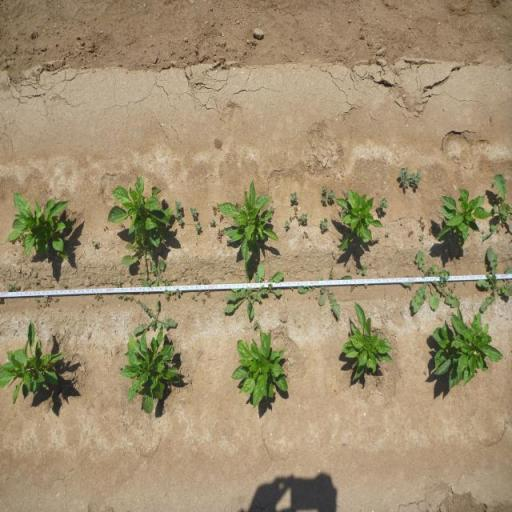plant: (425, 305, 505, 397), (0, 320, 70, 407), (121, 327, 183, 420), (230, 327, 292, 412), (218, 178, 280, 262), (106, 173, 174, 249), (8, 190, 78, 262), (339, 299, 394, 387), (432, 185, 493, 249), (333, 188, 382, 257)
weed: (222, 253, 285, 322), (398, 250, 462, 312), (297, 266, 355, 320), (473, 245, 512, 311), (481, 172, 512, 243), (133, 298, 180, 338), (121, 238, 153, 287), (148, 257, 173, 286), (398, 166, 422, 188), (196, 278, 212, 298), (290, 204, 302, 226), (377, 196, 390, 216), (216, 225, 226, 245), (173, 198, 183, 212), (356, 264, 368, 275), (175, 212, 184, 226), (418, 216, 427, 230), (42, 296, 52, 308), (6, 284, 20, 292), (212, 201, 220, 215), (300, 212, 308, 226), (289, 191, 298, 203), (320, 217, 328, 229), (163, 289, 170, 302), (194, 221, 202, 232), (171, 289, 183, 296), (189, 206, 197, 216), (328, 189, 334, 202), (284, 220, 290, 232), (252, 320, 260, 329), (302, 230, 309, 240), (321, 194, 328, 204), (92, 241, 100, 249), (321, 184, 328, 193), (114, 280, 122, 287), (208, 218, 215, 226), (95, 294, 104, 300), (219, 214, 224, 224), (122, 294, 128, 302), (61, 282, 68, 288), (116, 292, 122, 298), (419, 235, 425, 241), (129, 295, 134, 302), (386, 230, 390, 238), (54, 298, 60, 303), (135, 298, 140, 304), (270, 206, 275, 212), (201, 298, 206, 304), (127, 278, 132, 283), (119, 222, 124, 227), (347, 267, 350, 273), (376, 237, 380, 241), (190, 294, 194, 298), (188, 380, 192, 384)
